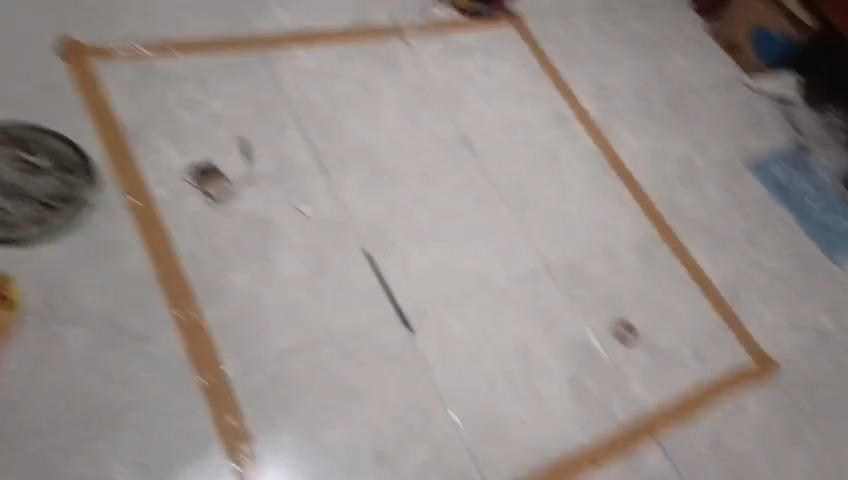floor marking: (62, 13, 778, 479)
